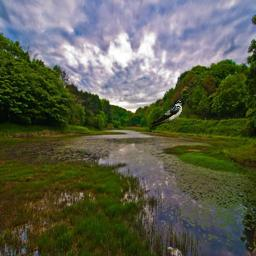Swallow: (150, 99, 182, 127)
